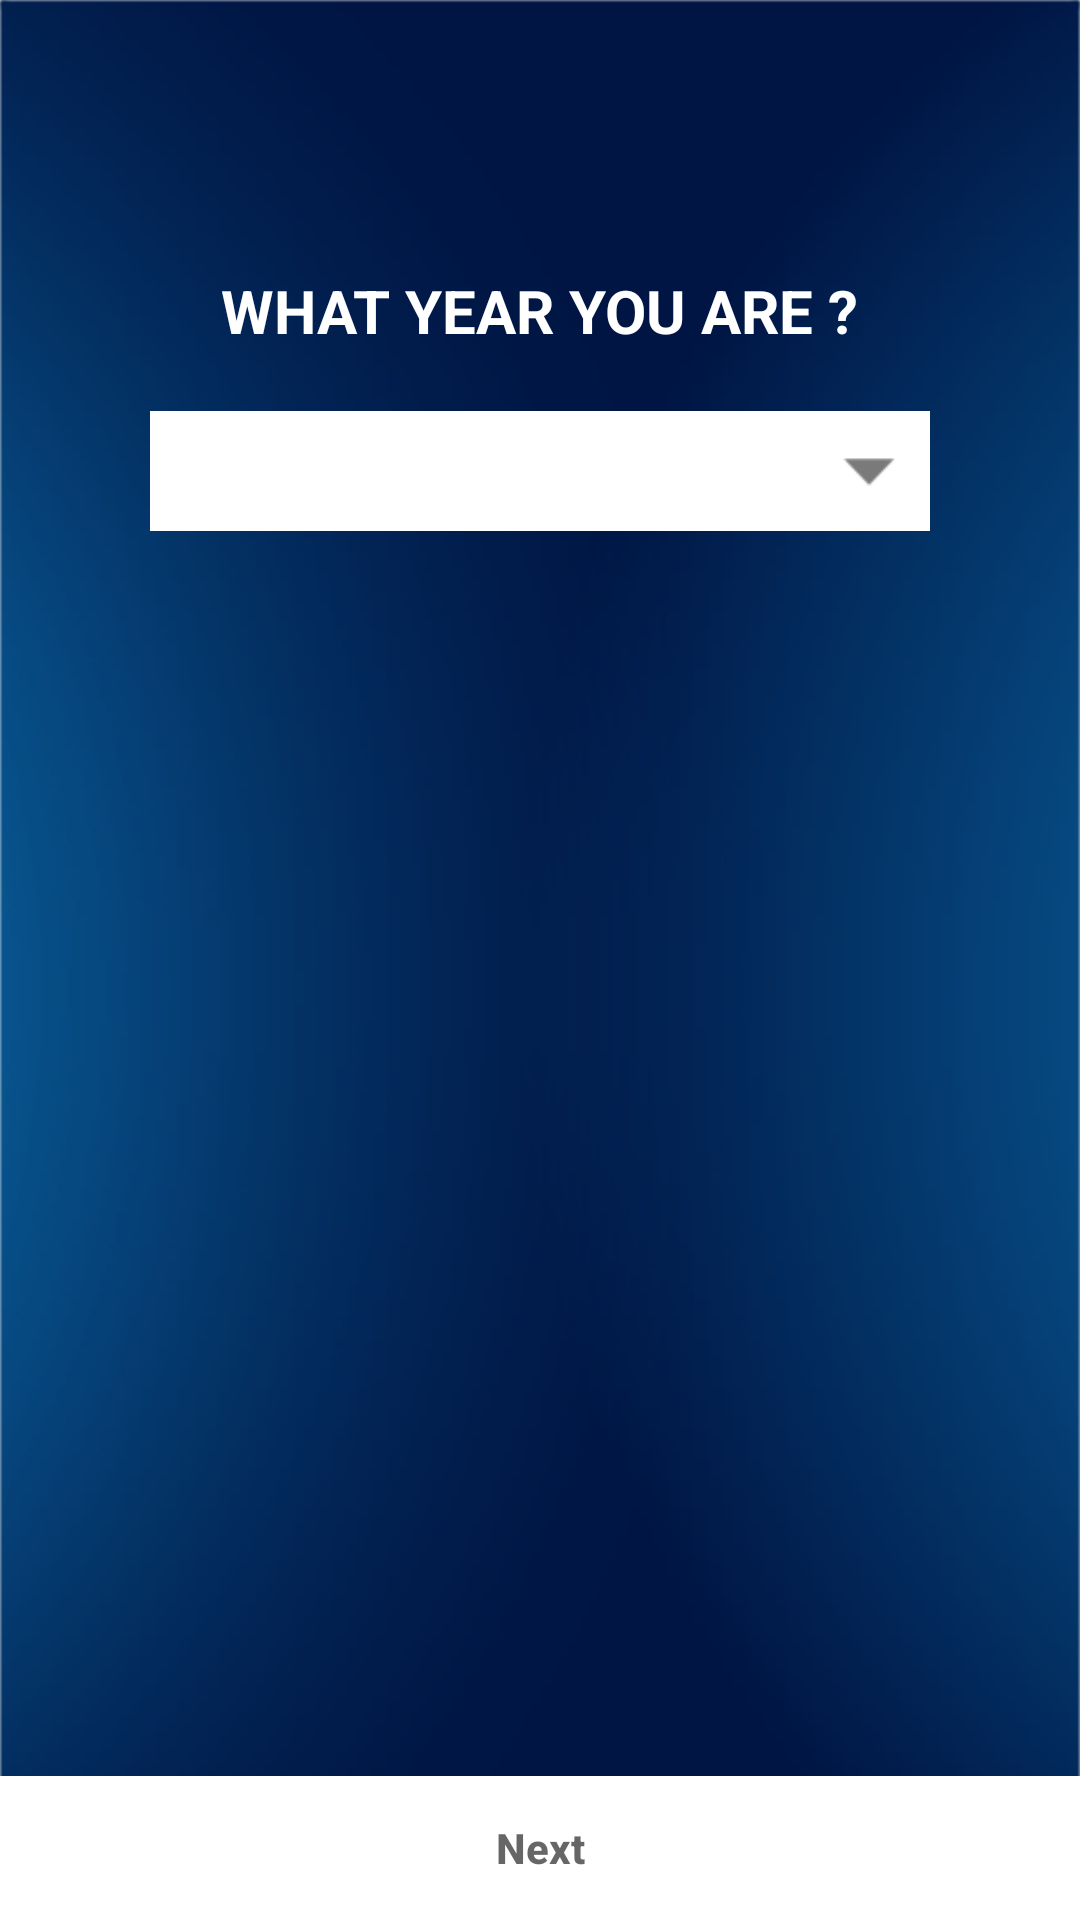

Where to tap for icons on this 1080 × 1920 app screen, as (x,y):
down arow: (869,471)
